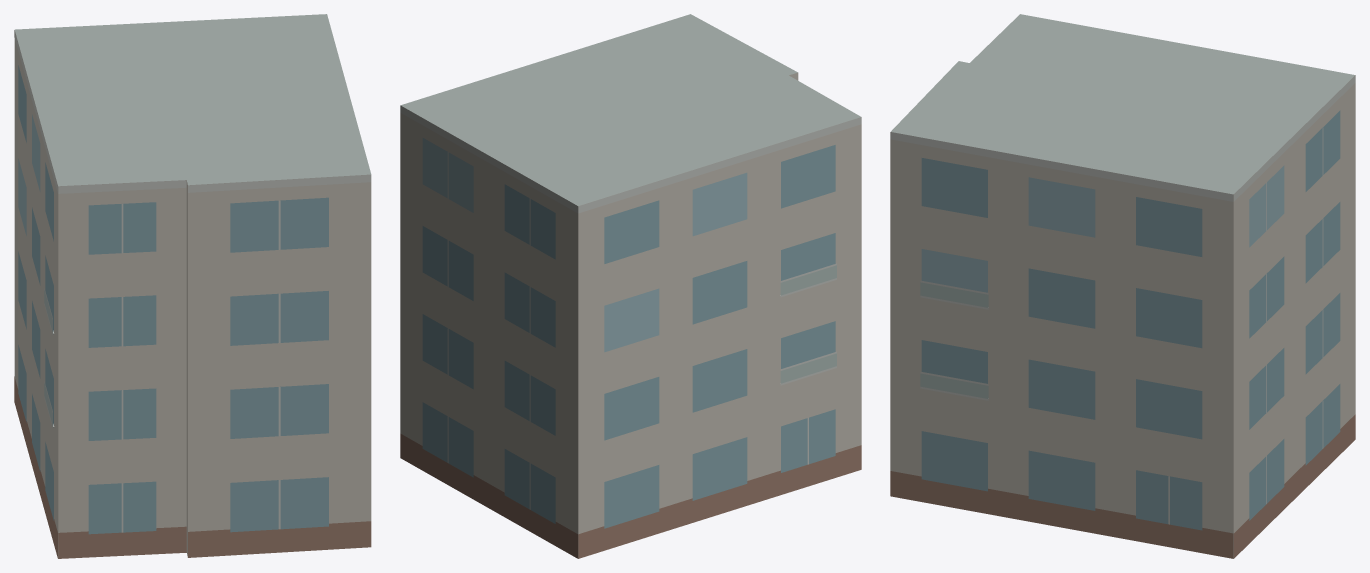
Rendered from survey-upis-32908487.glb.
3 views of the same model, side by side, from view 1: azimuth 30°, elevation 25°; view 2: azimuth 150°, elevation 25°; view 3: azimuth 270°, elevation 25° (orthographic). The views are drawn at different scales.
Visible parts, largest first — view 1: survey-upis-32908487.tmp; view 2: survey-upis-32908487.tmp; view 3: survey-upis-32908487.tmp.
Boxes of the visible parts, x1=… form: survey-upis-32908487.tmp: x1=14, y1=14, x2=371, y2=558; survey-upis-32908487.tmp: x1=400, y1=14, x2=861, y2=558; survey-upis-32908487.tmp: x1=890, y1=14, x2=1355, y2=558.
Bounding box in the file's own units: 12.54 × 11.8 × 13.66.
